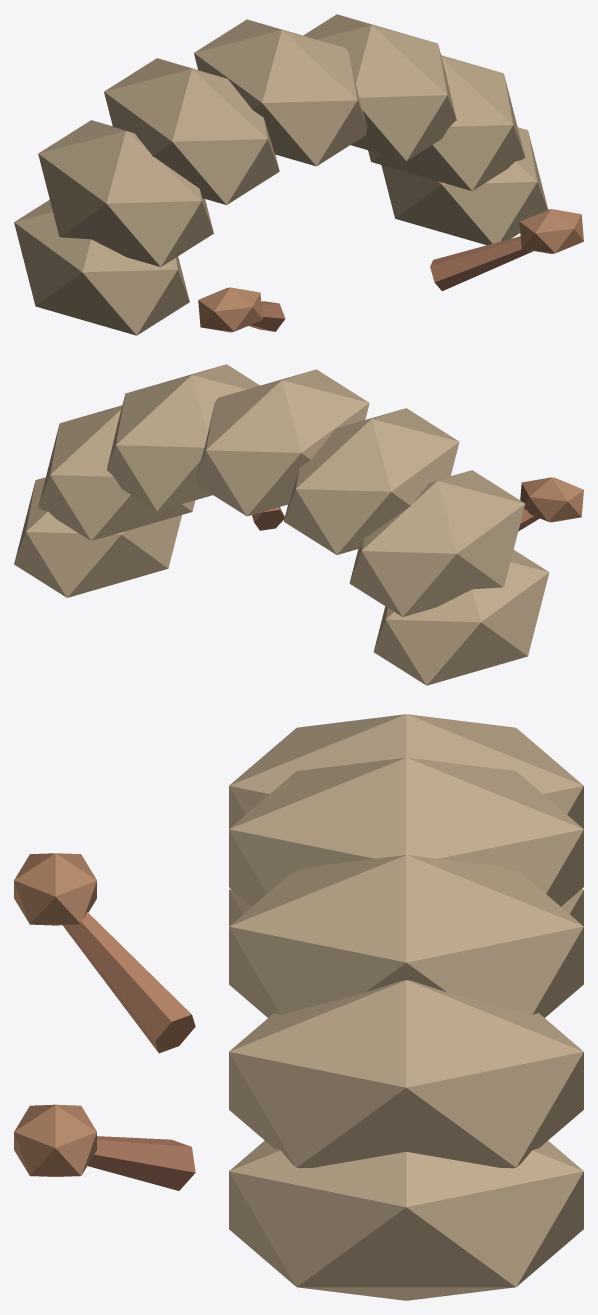
File: map-exclusive-v3__shore_02.glb
3 renders of one model, top to bottom at view 1: azimuth 30°, elevation 25°; view 2: azimuth 150°, elevation 25°; view 3: azimuth 270°, elevation 25°, orthographic. The views are drawn at different scales.
Visible parts, largest first — view 1: shore_02; view 2: shore_02; view 3: shore_02.
Boxes of the visible parts, bbox=[...] form: shore_02: bbox=[14, 14, 583, 335]; shore_02: bbox=[14, 364, 583, 685]; shore_02: bbox=[14, 714, 583, 1300].
Bounding box in the file's own units: 2.05 × 1 × 1.28.
